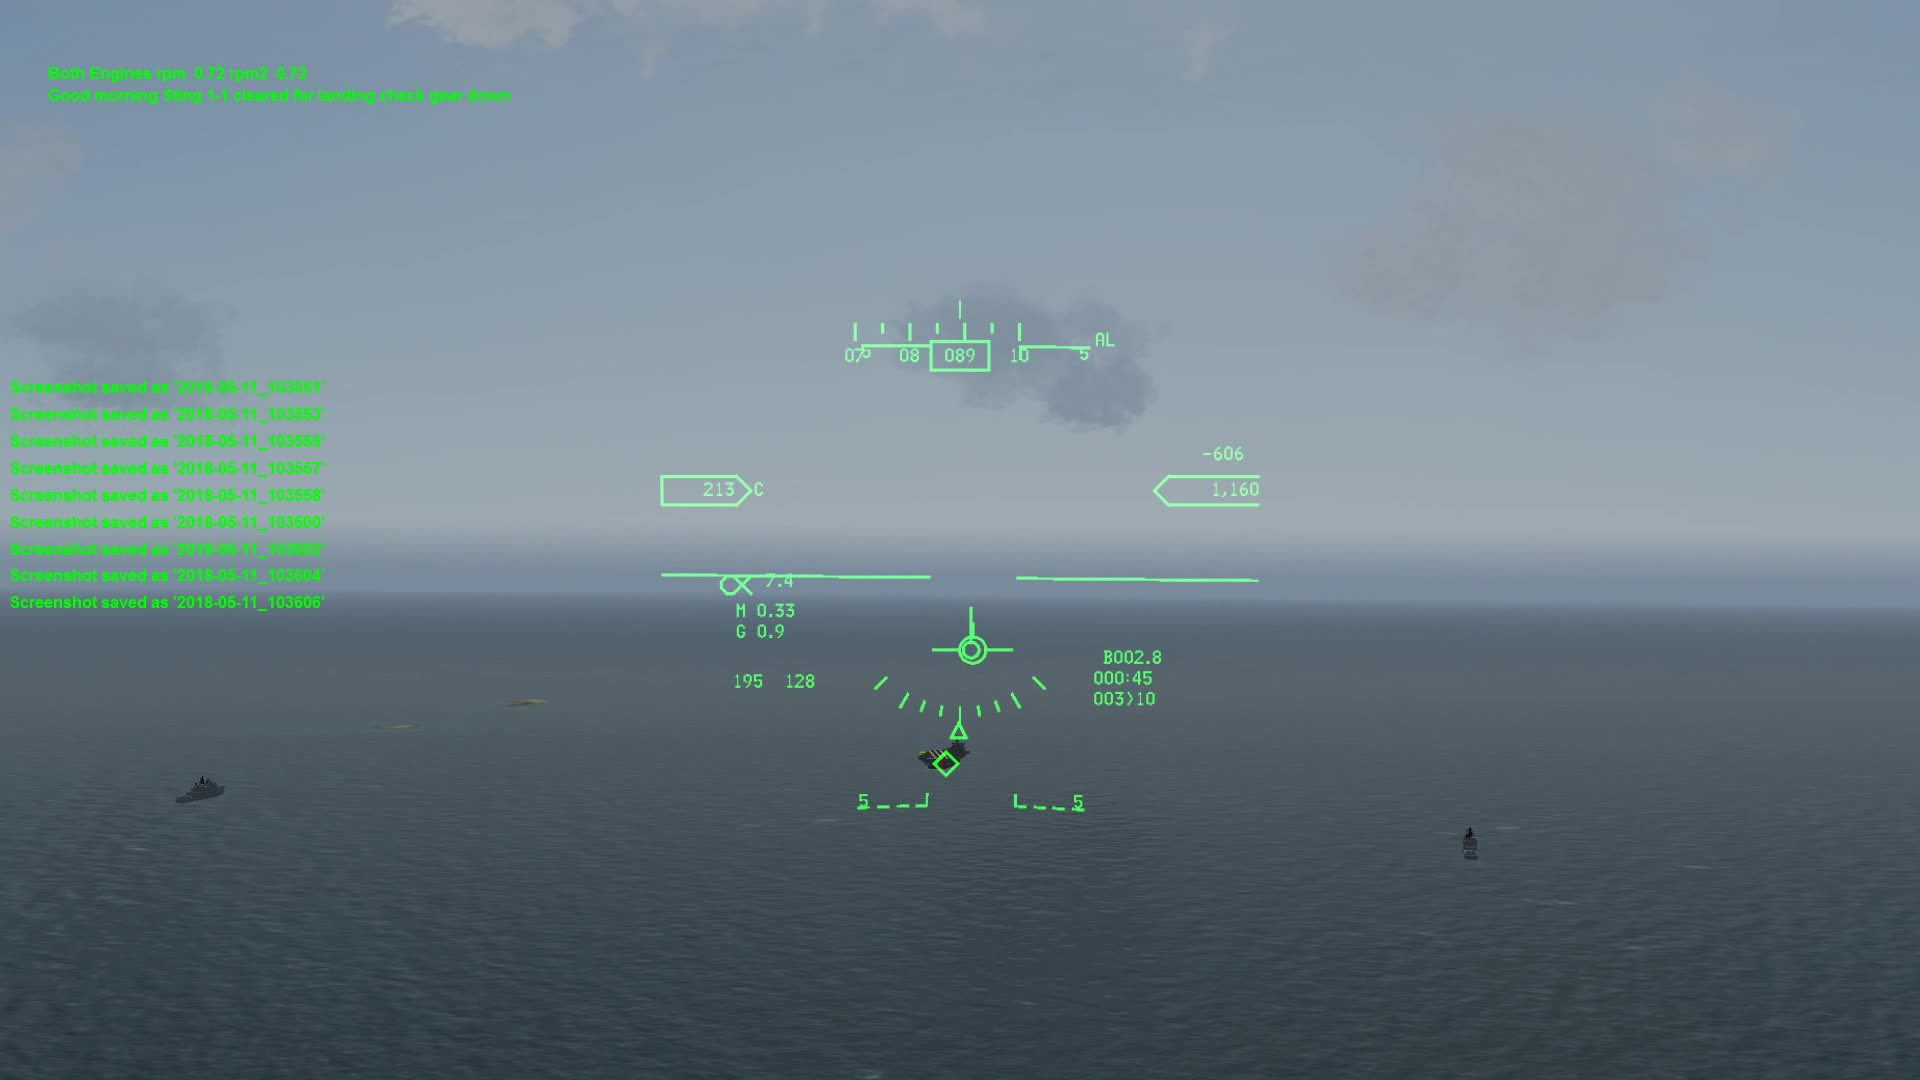speed vector: (942, 626, 1019, 676)
